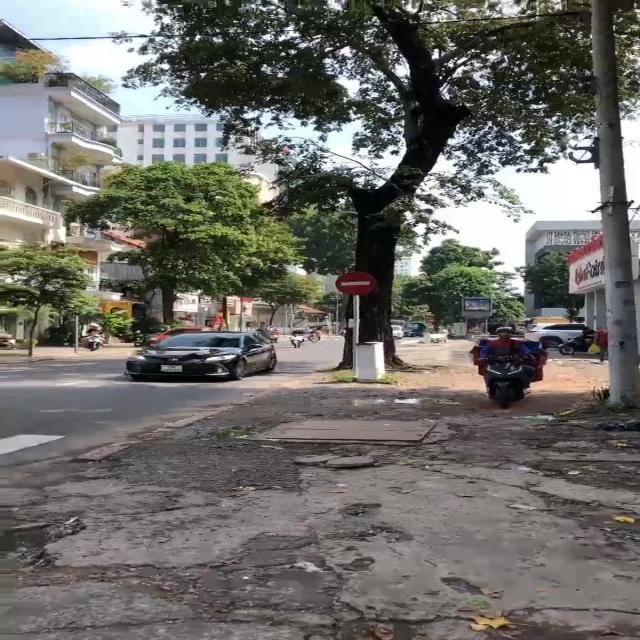Bien bao cam di nguoc chieu: (334, 270, 377, 296)
